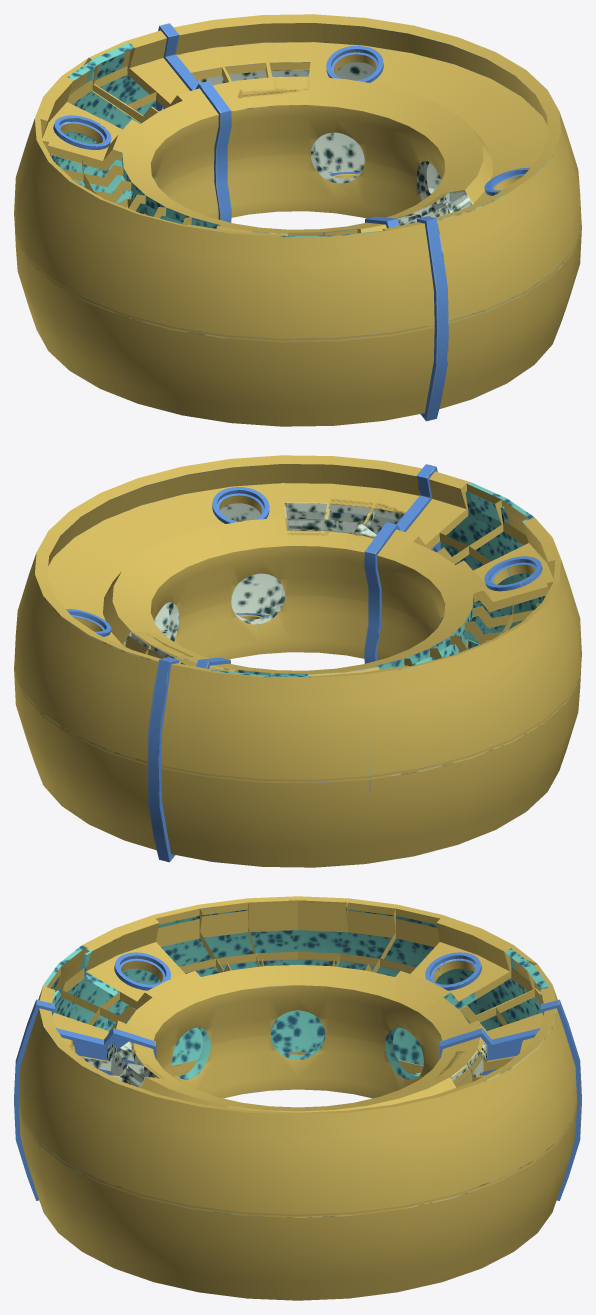
Rendered from base_ground.obj.
The picture shows the model from 3 angles, top to bottom: view 1: azimuth 30°, elevation 25°; view 2: azimuth 150°, elevation 25°; view 3: azimuth 270°, elevation 25°; orthographic projection.
Parts seen in each view (by area): view 1: base_ground; view 2: base_ground; view 3: base_ground.
Boxes of the visible parts, x1,y1,x2,y2 form: base_ground: (14, 14, 581, 426); base_ground: (14, 455, 581, 867); base_ground: (14, 896, 581, 1300).
Bounding box in the file's own units: 31.66 × 12.31 × 32.22.
